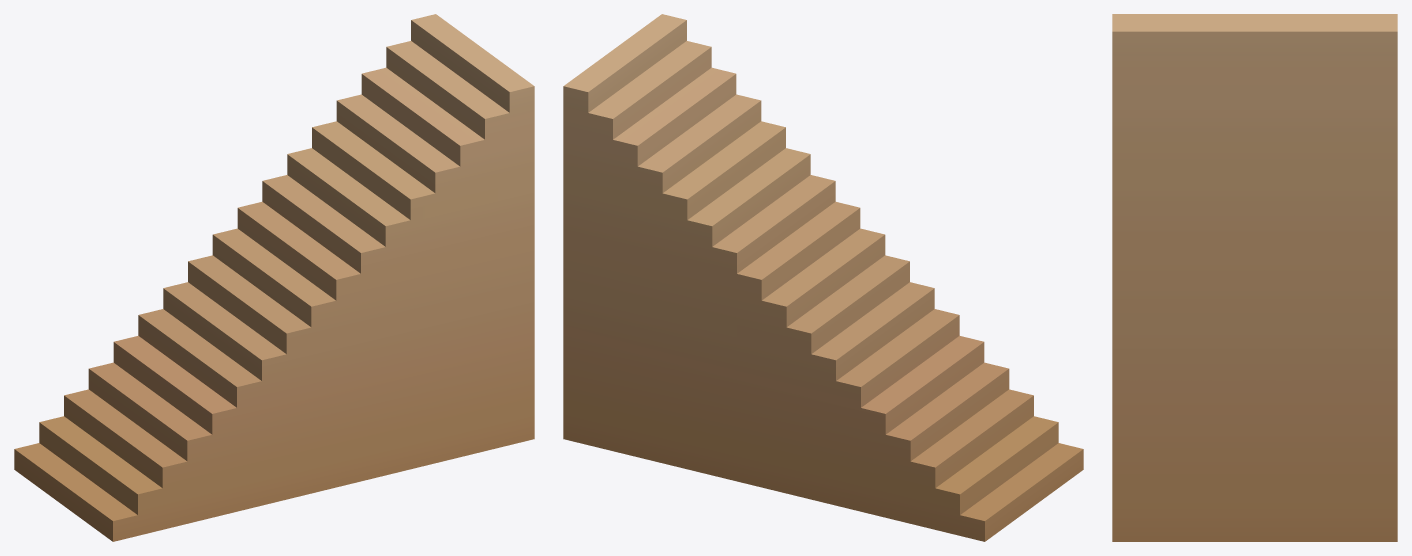
The model's file is Stairs_C_1_5.fbx.
3 views of the same model, side by side, from view 1: azimuth 30°, elevation 25°; view 2: azimuth 150°, elevation 25°; view 3: azimuth 270°, elevation 25° (orthographic). The views are drawn at different scales.
Parts seen in each view (by area): view 1: Stairs_C_1_5; view 2: Stairs_C_1_5; view 3: Stairs_C_1_5.
Part boxes in pixels (box(x1,y1,x2,y2)): Stairs_C_1_5: box(14, 14, 534, 541); Stairs_C_1_5: box(563, 14, 1083, 541); Stairs_C_1_5: box(1112, 14, 1397, 541).
Bounding box in the file's own units: 340 × 272 × 138.
